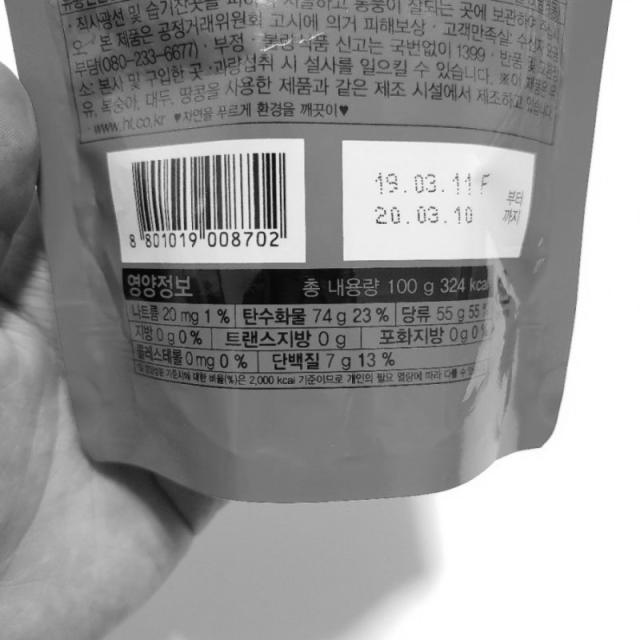Nutrition Label: (96, 264, 545, 427)
